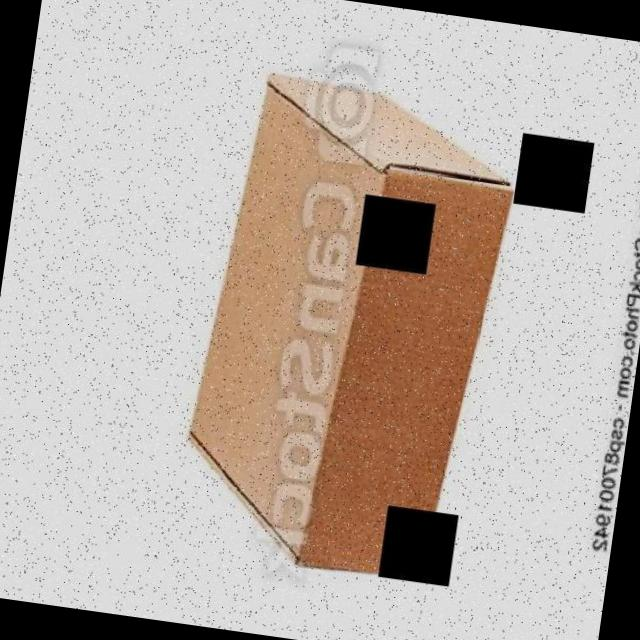box: (158, 52, 543, 602)
